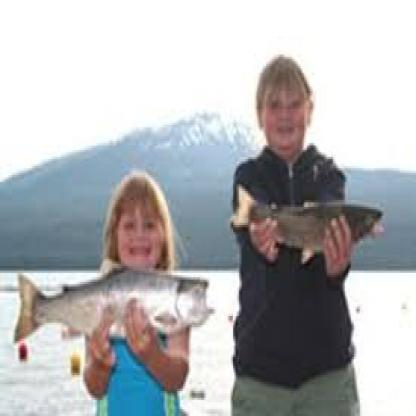fish: (12, 265, 215, 344), (226, 175, 384, 267)
